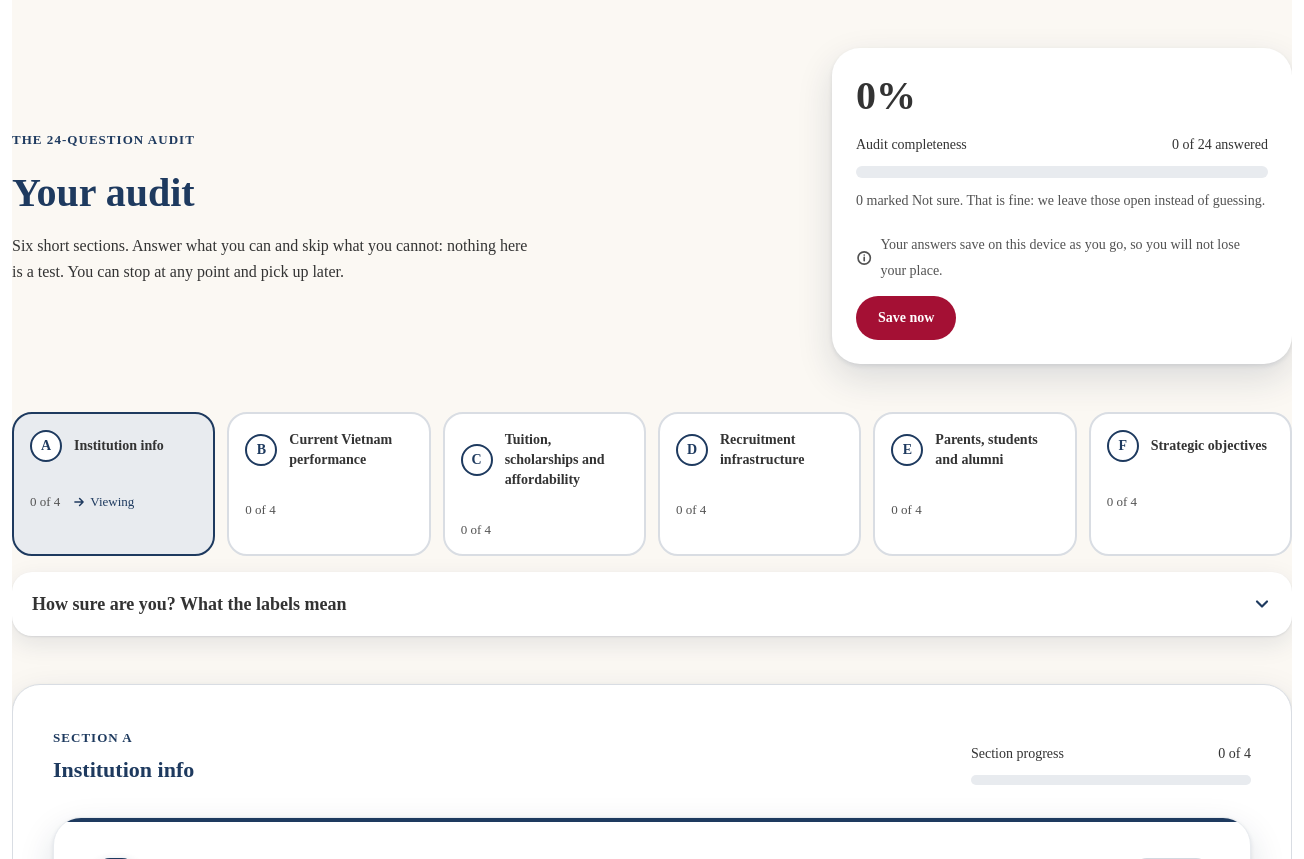
it: IntakePage sections › explains the evidence tags in a collapsible panel
This screenshot has width=1304, height=859.
What coordinates should you click on to do the following:
click the button "How sure are you? What the labels mean"
I would click on:
 (189, 604)
Its box is [12, 572, 1292, 636].
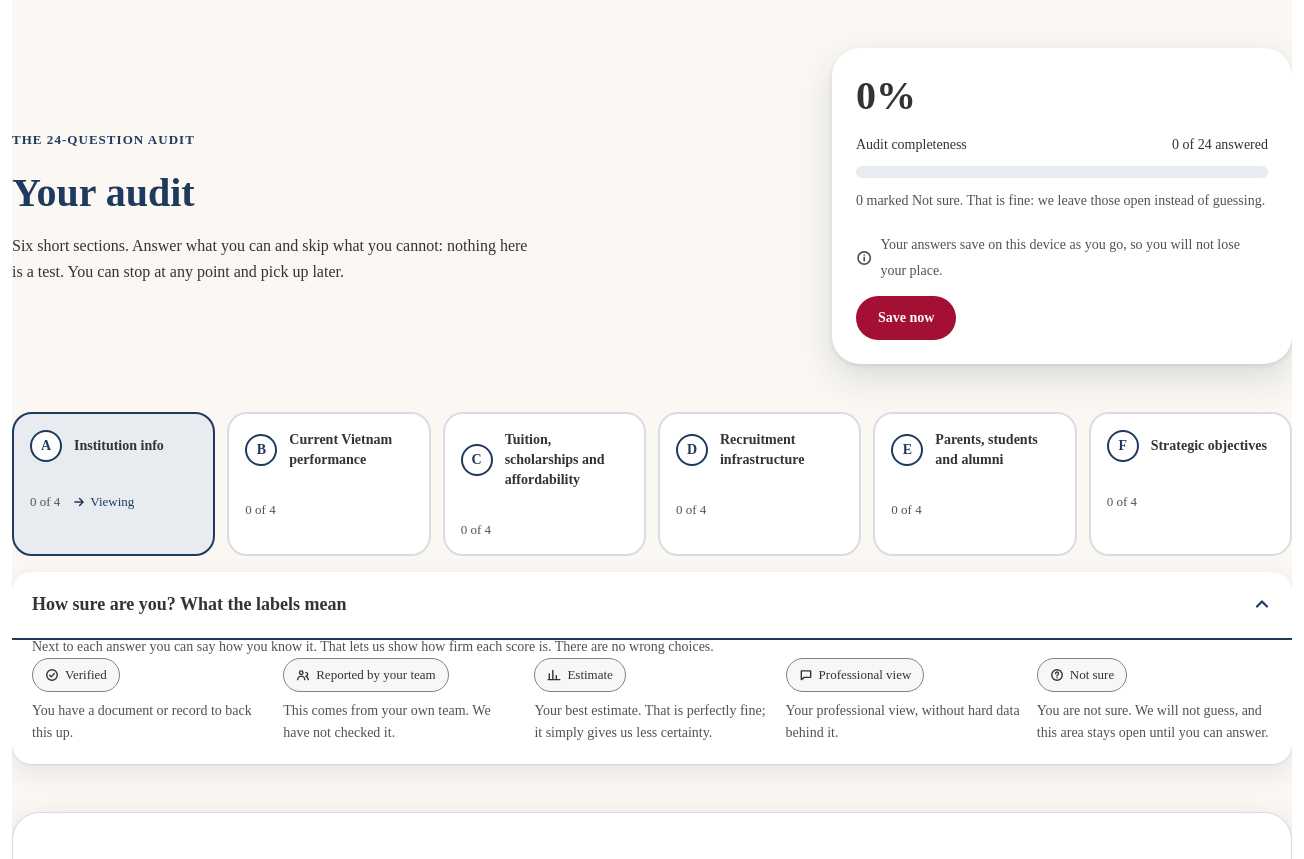
Now the button "How sure are you? What the labels mean" is expanded, box [12, 572, 1292, 636]
Now the text "You have a document or record to back this up." is shown, box [32, 700, 267, 744]
